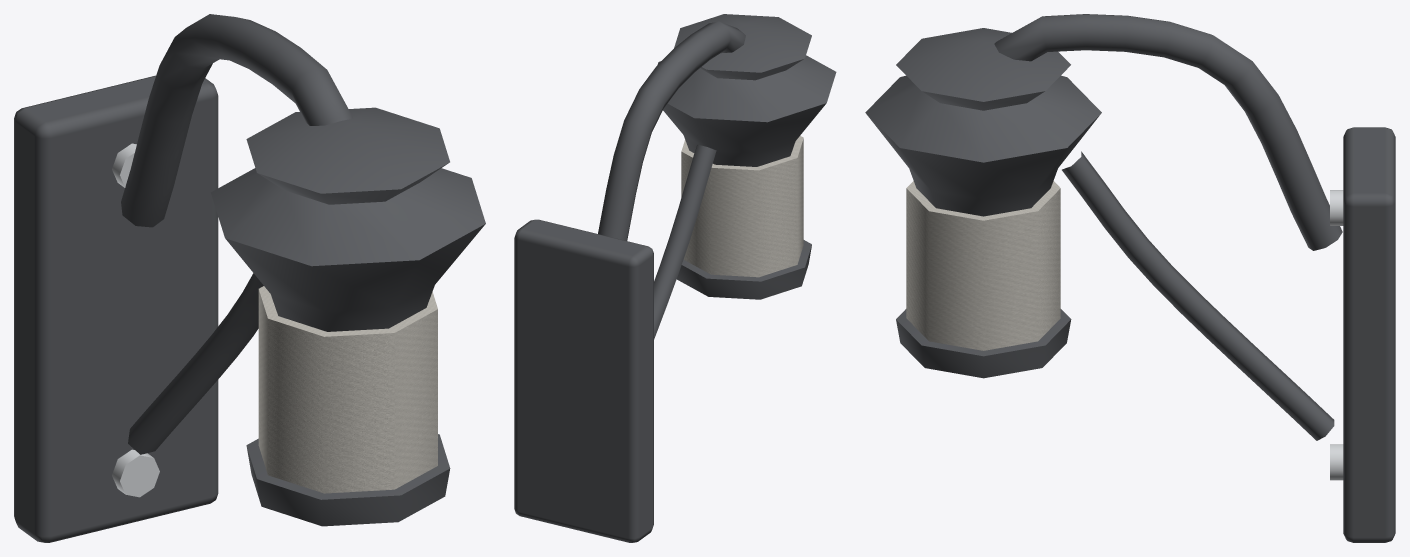
Rendered from tactical-shooter-hill-town-wall-lamp-bracket-d2e06af9__27537.glb.
3 views of the same model, side by side, from view 1: azimuth 30°, elevation 25°; view 2: azimuth 150°, elevation 25°; view 3: azimuth 270°, elevation 25° (orthographic). The views are drawn at different scales.
Visible parts, largest first — view 1: wall-lamp-bracket; view 2: wall-lamp-bracket; view 3: wall-lamp-bracket.
Part boxes in pixels (<box>): wall-lamp-bracket: <box>14,14,485,542</box>; wall-lamp-bracket: <box>514,14,836,542</box>; wall-lamp-bracket: <box>865,14,1395,542</box>.
Size of the model in its own units: 0.27 by 0.6233 by 0.605.
Materials: 3 (1 with a texture image).
